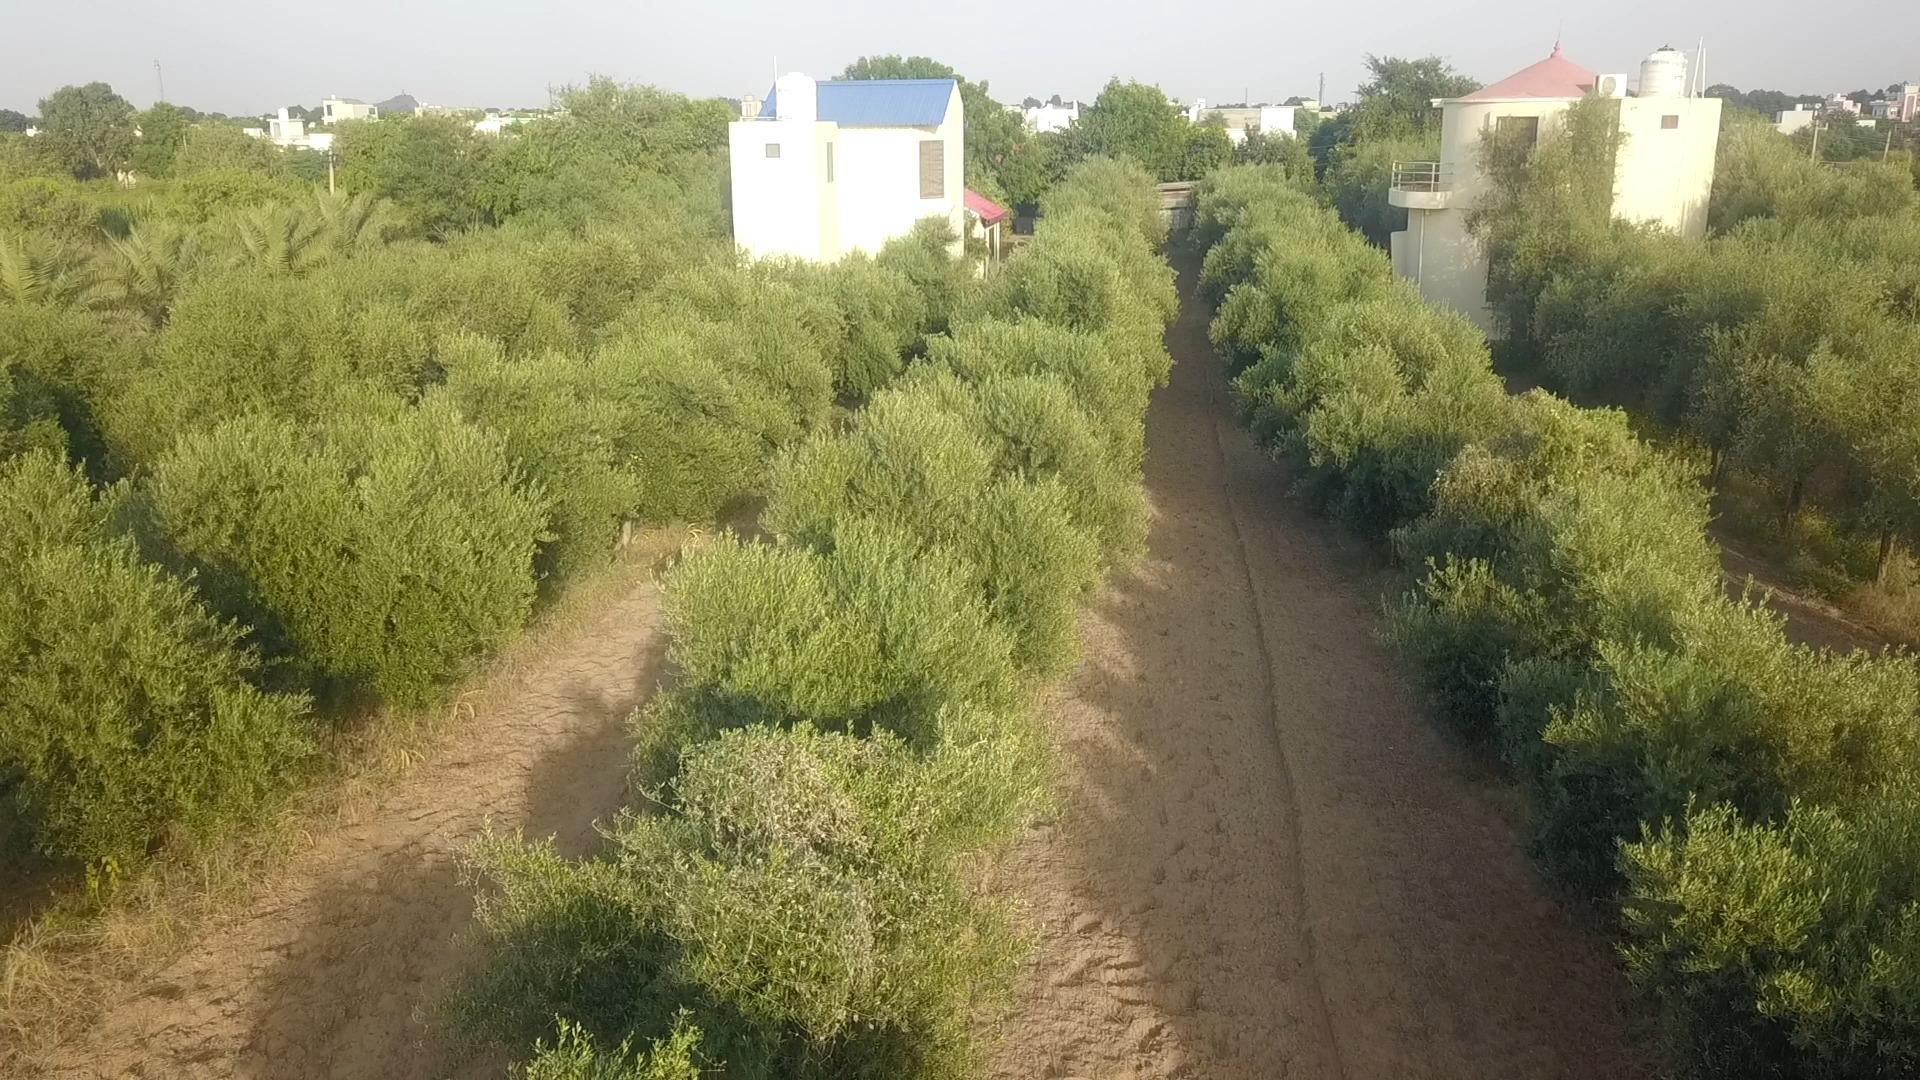canopy: (1197, 167, 1919, 1079), (465, 158, 1178, 1079), (0, 257, 924, 862), (1524, 225, 1919, 553)
road: (988, 303, 1638, 1079), (40, 541, 671, 1079), (1725, 570, 1888, 651)
